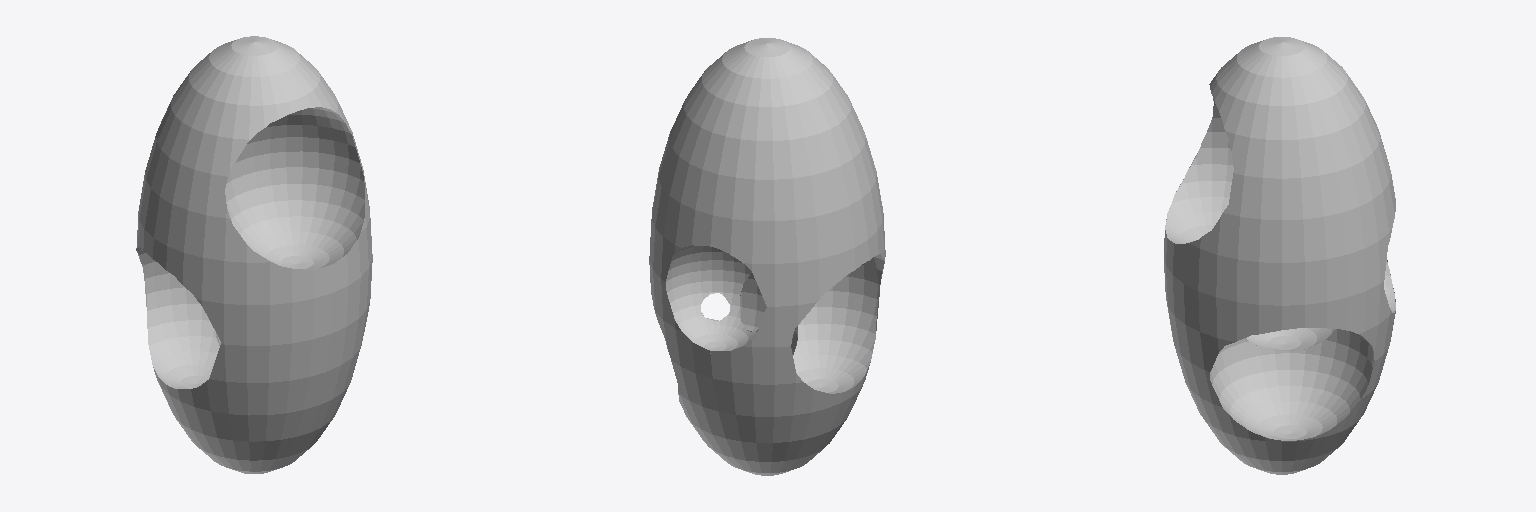
File: boss.obj
The picture shows the model from 3 angles: view 1: azimuth 30°, elevation 25°; view 2: azimuth 150°, elevation 25°; view 3: azimuth 270°, elevation 25°; orthographic projection.
Visible parts, largest first — view 1: Sfera_Sfera.002; view 2: Sfera_Sfera.002; view 3: Sfera_Sfera.002.
Boxes of the visible parts, x1,y1,x2,y2 form: Sfera_Sfera.002: [136, 36, 372, 473]; Sfera_Sfera.002: [649, 38, 885, 475]; Sfera_Sfera.002: [1164, 37, 1395, 474].
Size of the model in its own units: 14.05 by 28.05 by 13.87.